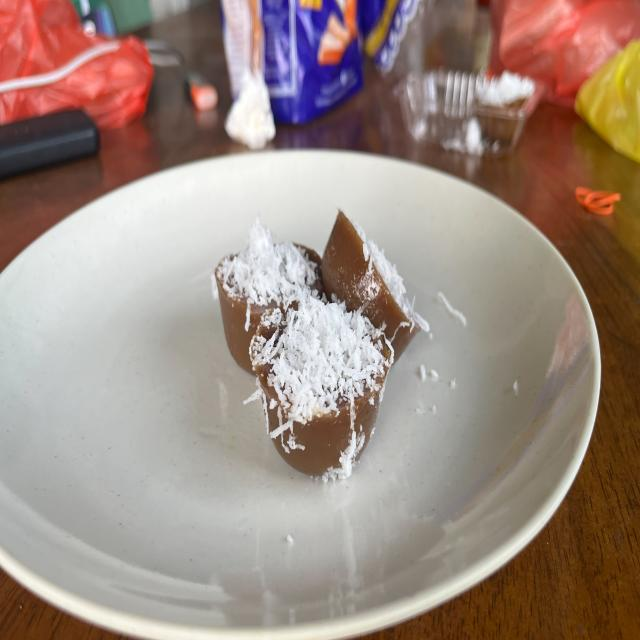Kuih lompang: (250, 293, 392, 478), (215, 216, 322, 373), (321, 211, 430, 360)
